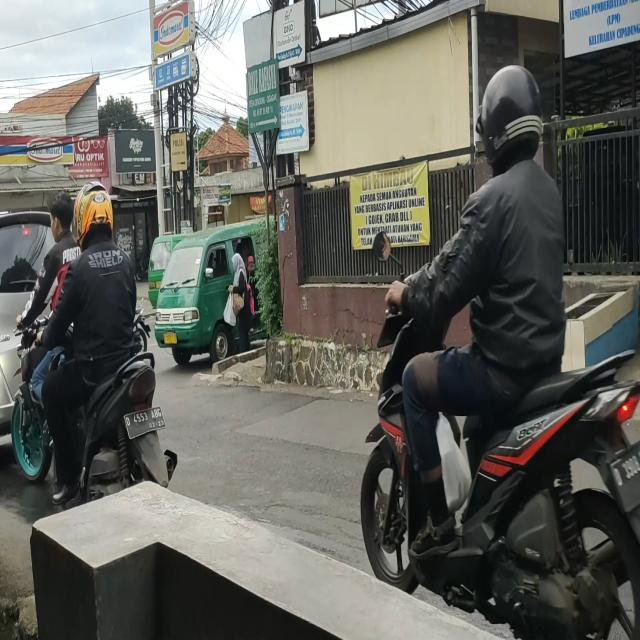helmet: (482, 65, 540, 173), (74, 183, 114, 245)
no-helmet: (51, 193, 71, 244)
